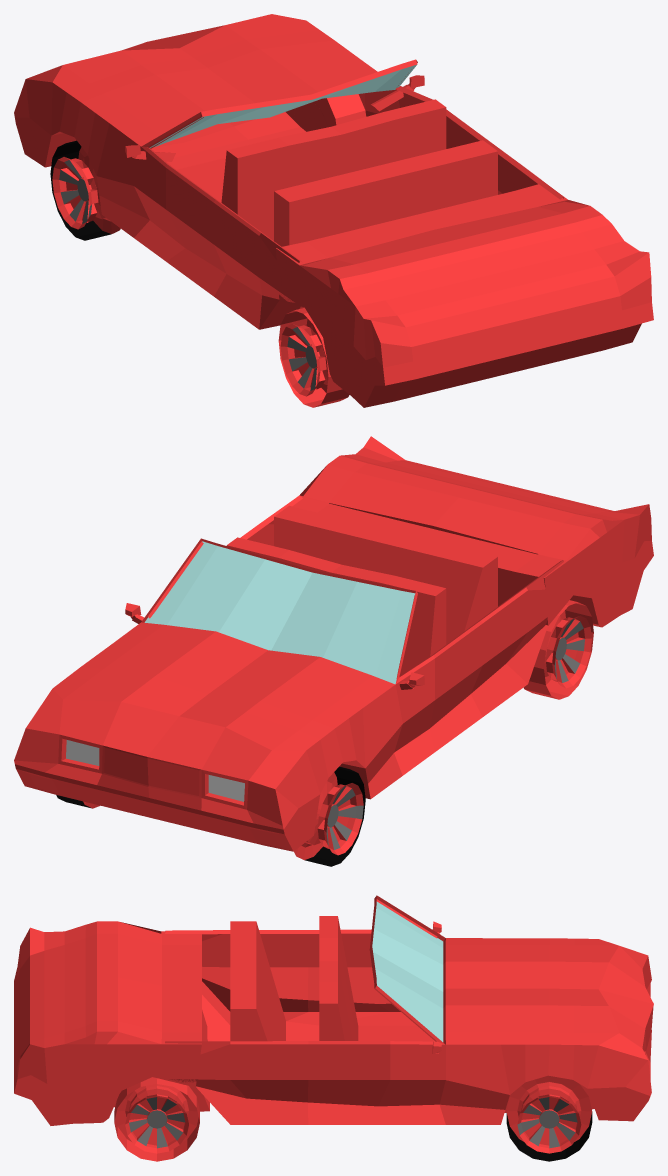
Rendered from BroomBroom4.fbx.
3 renders of one model, top to bottom at view 1: azimuth 30°, elevation 25°; view 2: azimuth 150°, elevation 25°; view 3: azimuth 270°, elevation 25°, orthographic. The views are drawn at different scales.
Visible parts, largest first — view 1: Cube; view 2: Cube; view 3: Cube.
Boxes of the visible parts, <box> form: Cube: <box>14,14,653,407</box>; Cube: <box>14,436,653,866</box>; Cube: <box>14,895,653,1161</box>.
Size of what is drawn, in the model's own units: 181 by 112 by 393.
